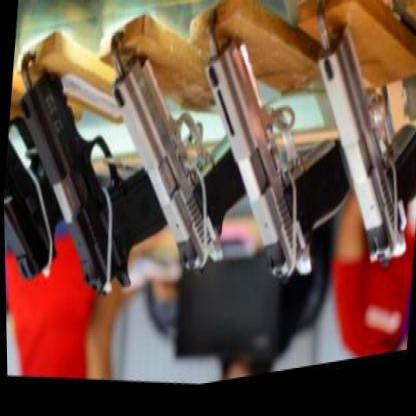pistol: (186, 19, 364, 317), (1, 52, 182, 330), (92, 34, 260, 306), (294, 9, 415, 305), (2, 109, 74, 292)
